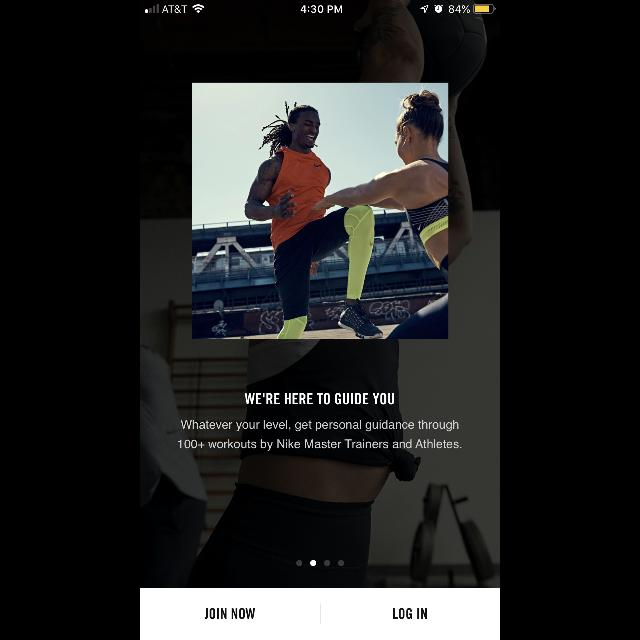image: (192, 83, 448, 339)
pageindicator: (296, 560, 344, 566)
text: (178, 420, 462, 450), (246, 394, 394, 404), (205, 608, 255, 618), (393, 608, 427, 618)
uppertaskbar: (140, 0, 500, 14)
